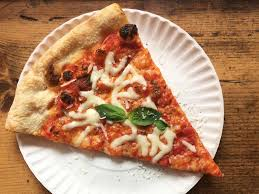pizza: (6, 12, 234, 180)
